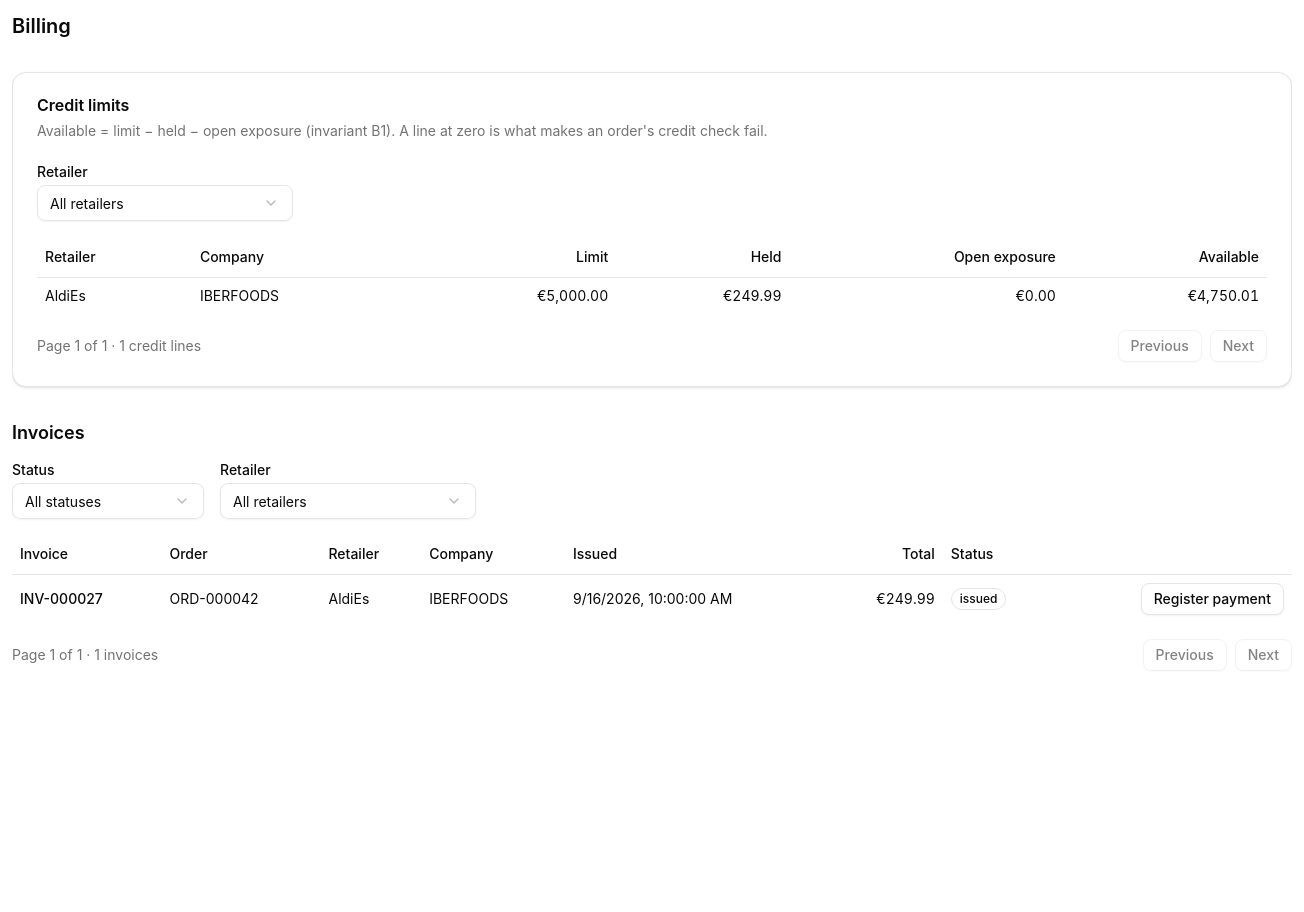
Test: BillingView — Register payment (R47/R48) › an order-link lookup that ANSWERS with no order says no order was found — it never stays on "resolving" (id 29 bullet 4)
The image size is (1304, 912).
Click the button with test id "register-payment-button".
click(1212, 599)  # box [1141, 583, 1284, 615]
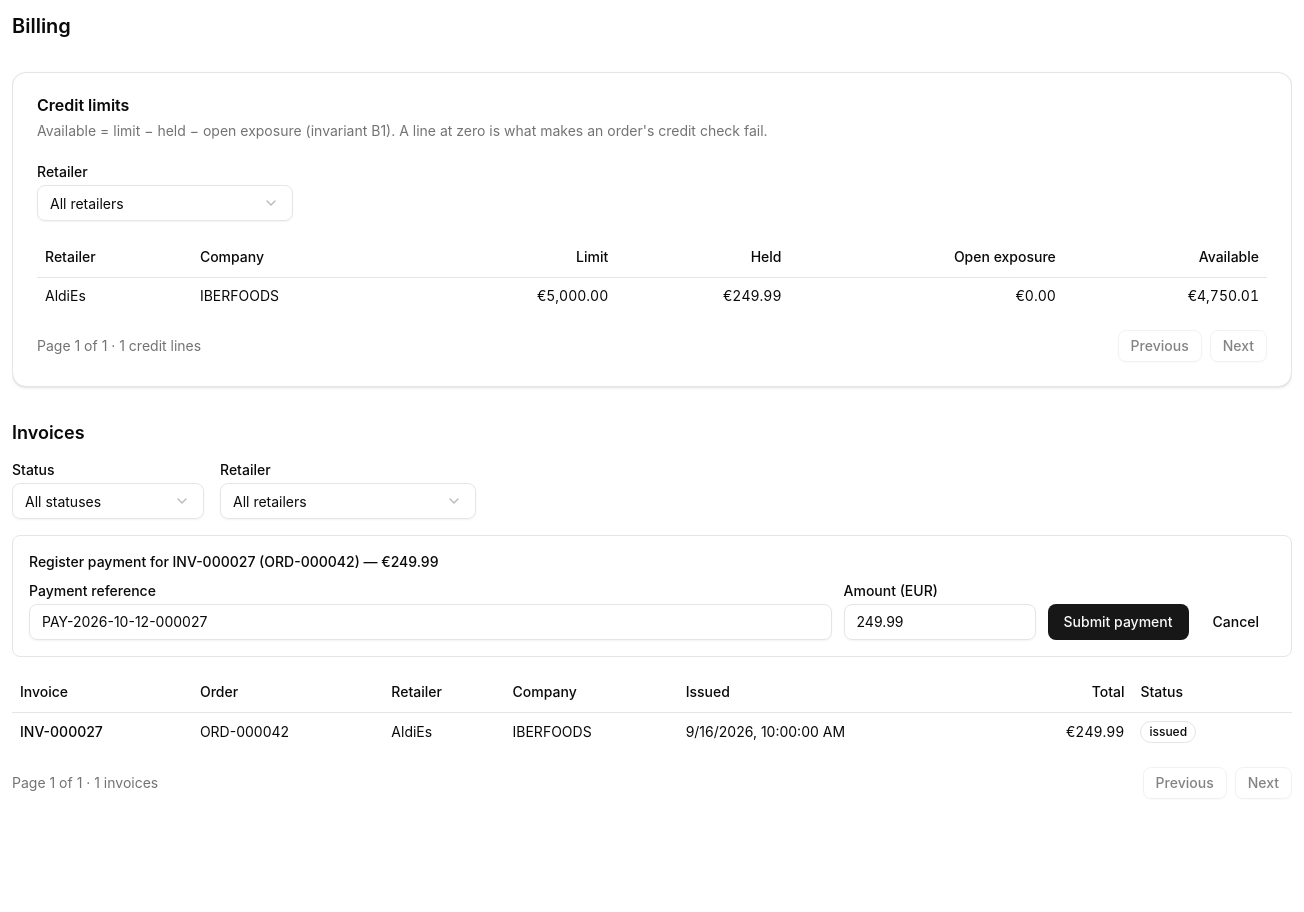
Click the button with test id "submit-payment-button".
click(1118, 622)  # box [1048, 604, 1188, 640]
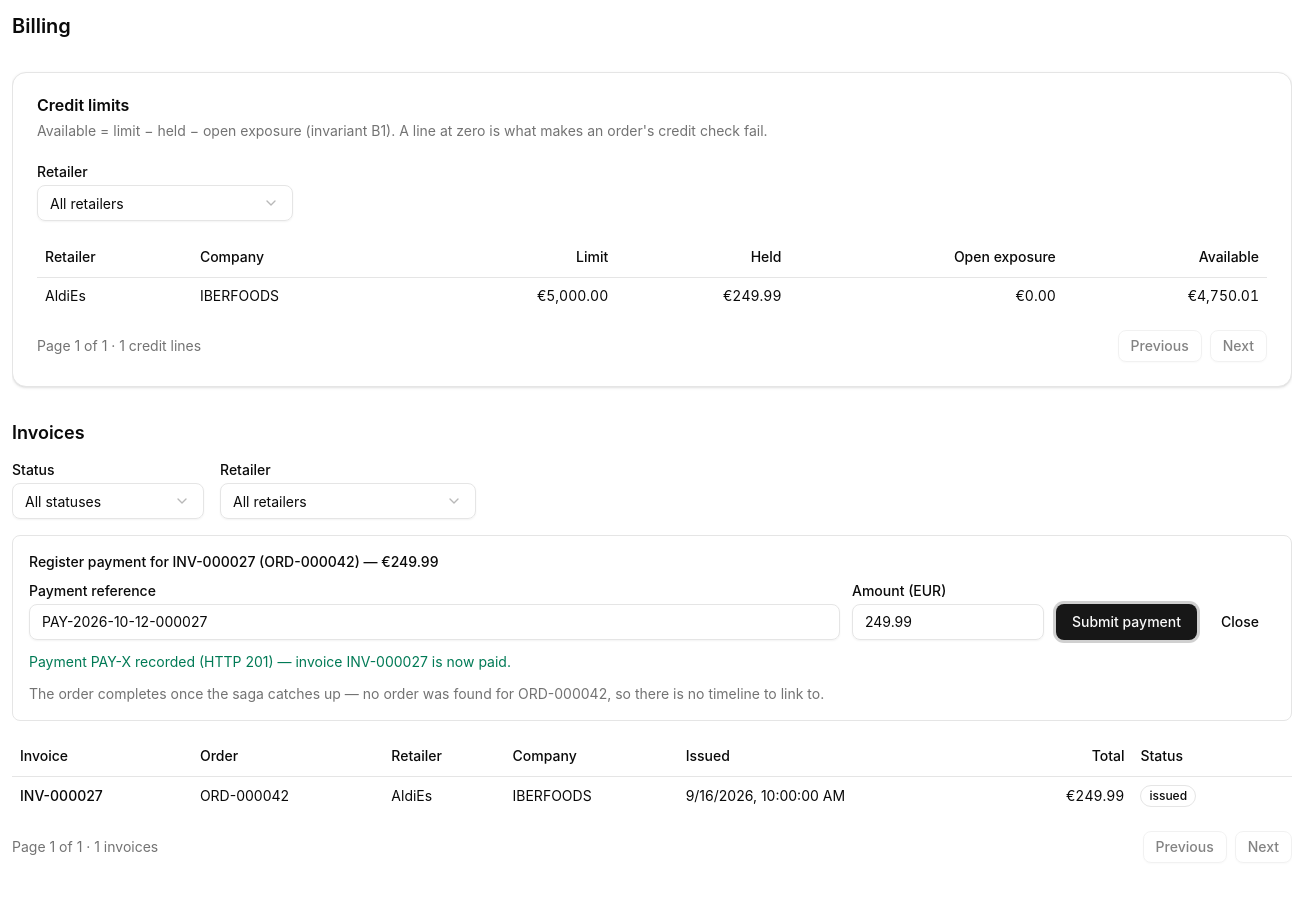
Expected: the text with test id "payment-outcome-accepted" is shown, [29, 652, 511, 670]
Expected: the text with test id "view-order-link-not-found" reads "no order was found for ORD-000042, so there is no timeline to link to.", [363, 684, 824, 702]
